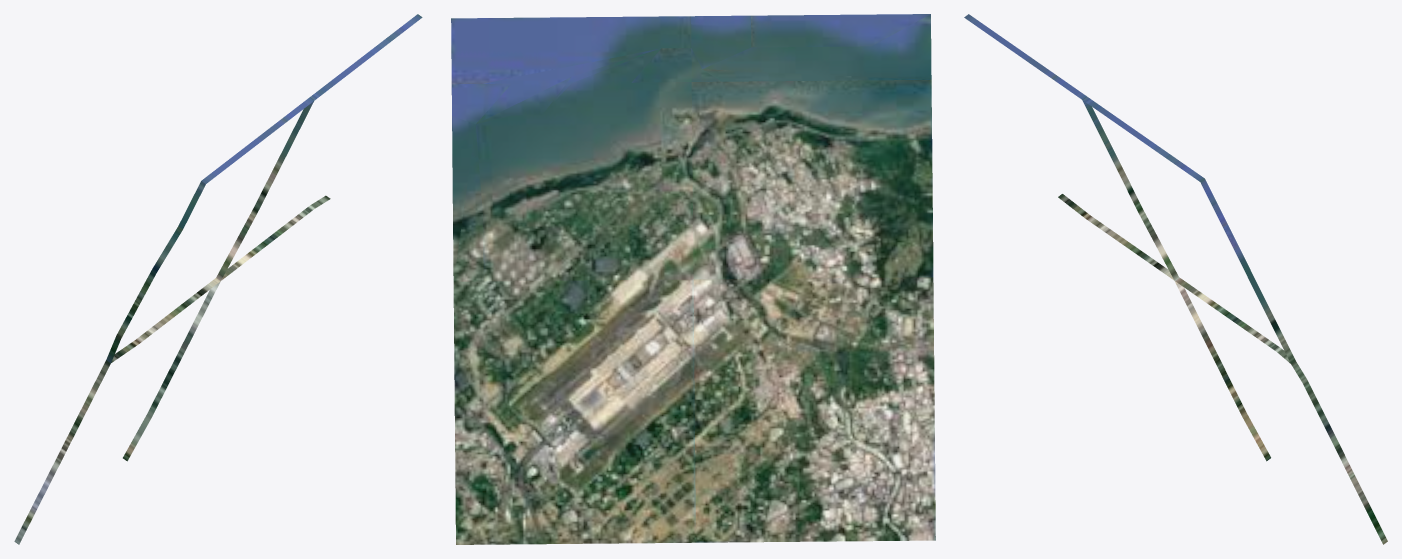
3 views of the same model, side by side, from view 1: azimuth 30°, elevation 25°; view 2: azimuth 150°, elevation 25°; view 3: azimuth 270°, elevation 25° (orthographic). The views are drawn at different scales.
Size of the model in its own units: 9847 by 8876 by 8278.
Materials: 1 (1 with a texture image).
